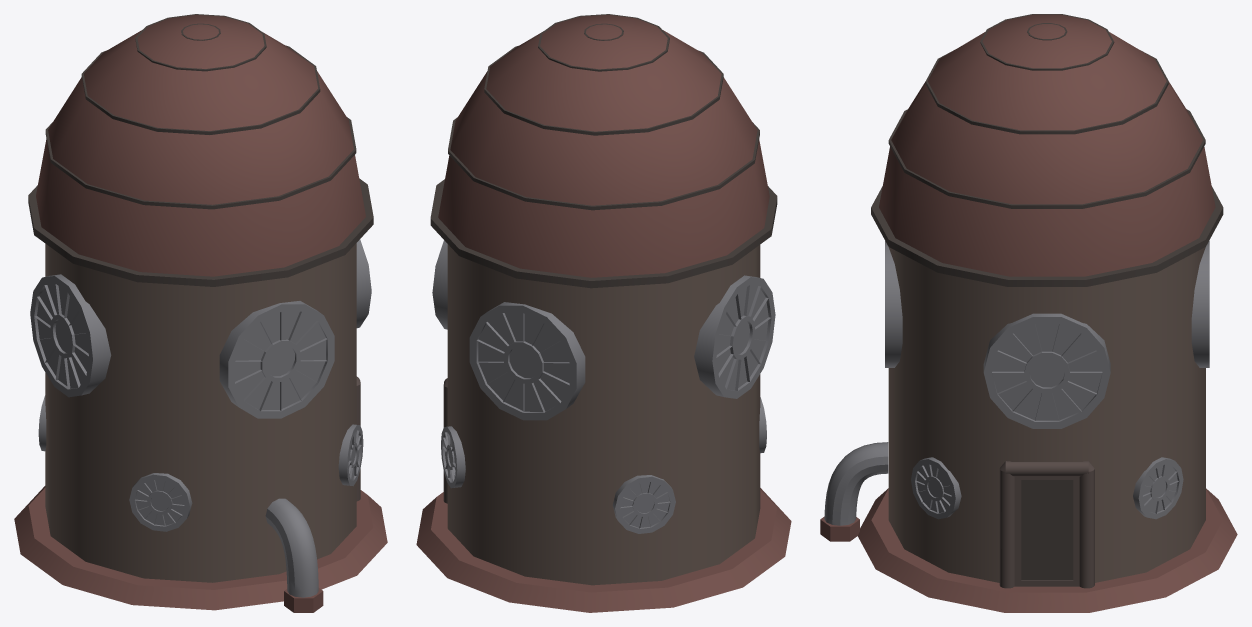
File: Building12.fbx
3 views of the same model, side by side, from view 1: azimuth 30°, elevation 25°; view 2: azimuth 150°, elevation 25°; view 3: azimuth 270°, elevation 25° (orthographic).
Parts seen in each view (by area): view 1: hut; view 2: hut; view 3: hut.
Part boxes in pixels (bbox=[...]): hut: bbox=[14, 14, 387, 612]; hut: bbox=[416, 14, 791, 612]; hut: bbox=[820, 14, 1237, 612].
Size of the model in its own units: 524 by 789 by 589.
Materials: 1 (1 with a texture image).
